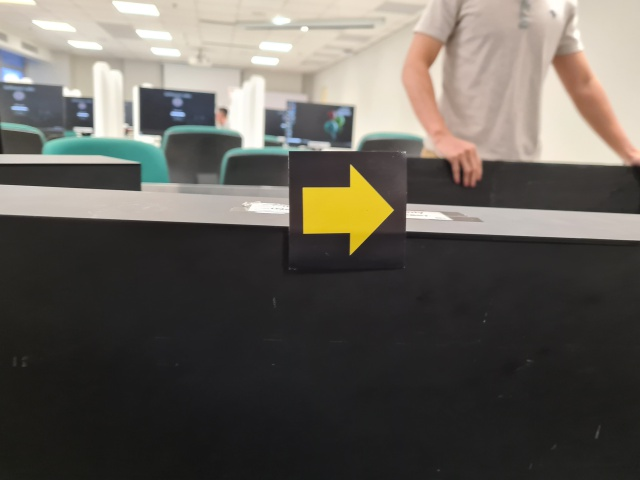right_arrow: (287, 149, 409, 273)
